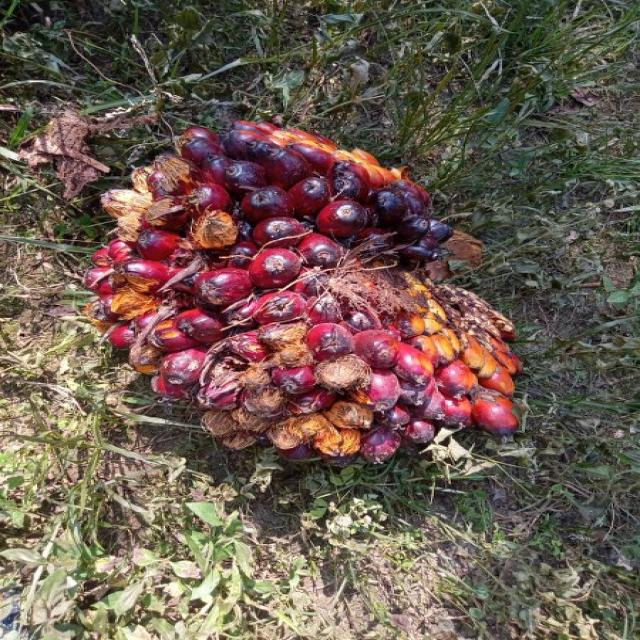fraksi 1: (19, 75, 566, 499)
